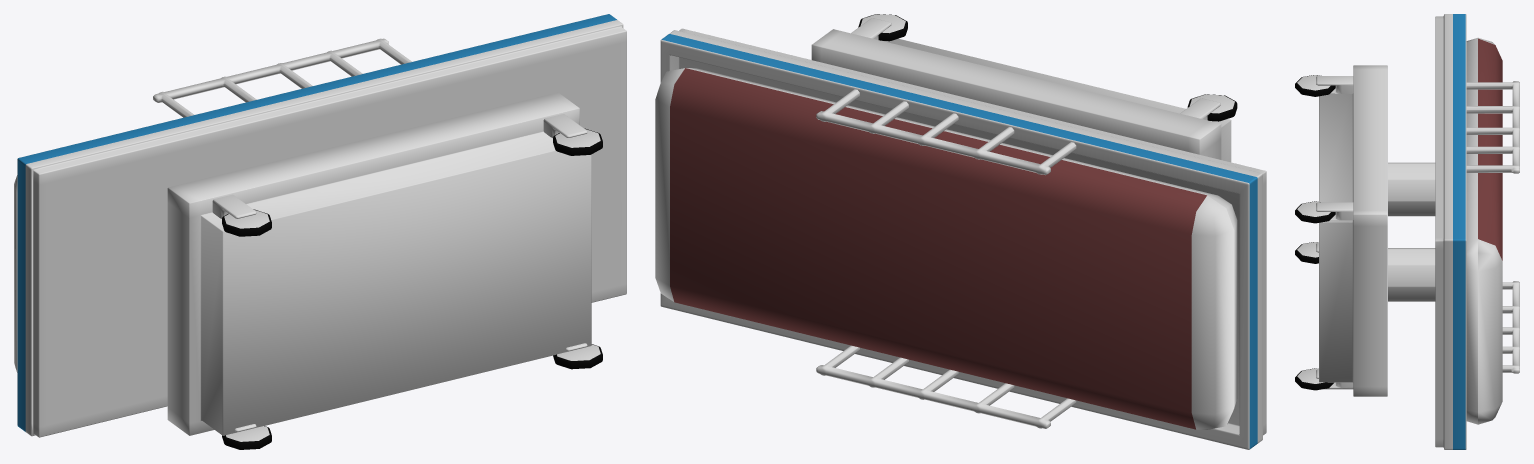
3 views of the same model, side by side, from view 1: azimuth 30°, elevation 25°; view 2: azimuth 150°, elevation 25°; view 3: azimuth 270°, elevation 25° (orthographic). The views are drawn at different scales.
Visible parts, largest first — view 1: Circle.001; view 2: Circle.001; view 3: Circle.001.
Boxes of the visible parts, x1=… form: Circle.001: x1=14, y1=14, x2=626, y2=449; Circle.001: x1=655, y1=14, x2=1266, y2=449; Circle.001: x1=1295, y1=14, x2=1519, y2=449.
Size of the model in its own units: 212 by 91.7 by 88.81.
